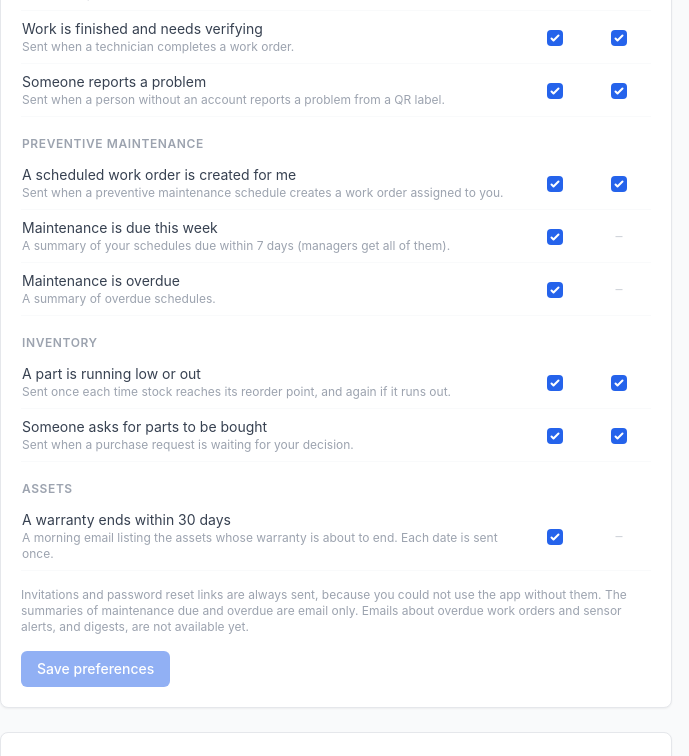
it: NotificationsPage › saves a changed email choice, and only then
(page scrolled)
Expected: the button "Save preferences" is disabled, 21,651 -> 170,687
Click the checkbox labelled "A part is running low or out" at {"x": 555, "y": 383}, box 547,375 -> 563,391
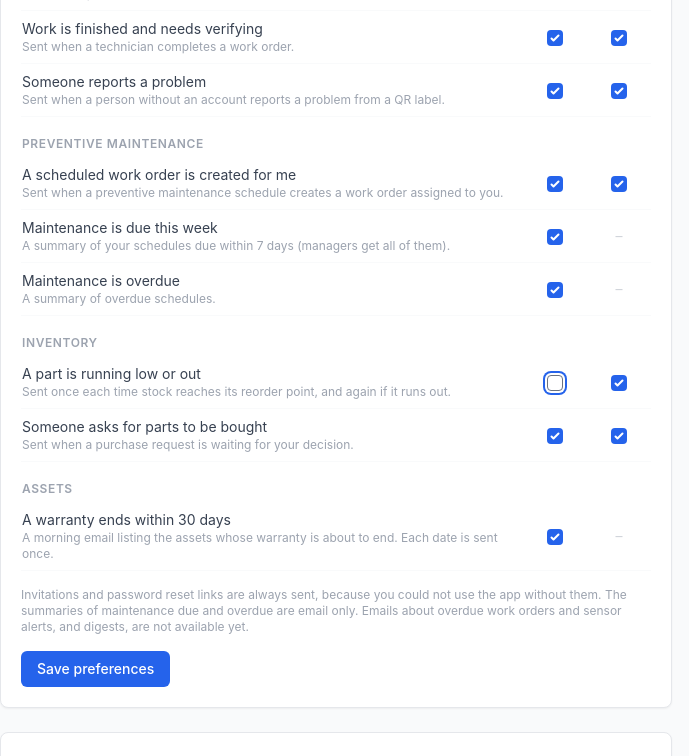
Expected: the button "Save preferences" is enabled
Click the button "Save preferences" at {"x": 96, "y": 669}, box 21,651 -> 170,687
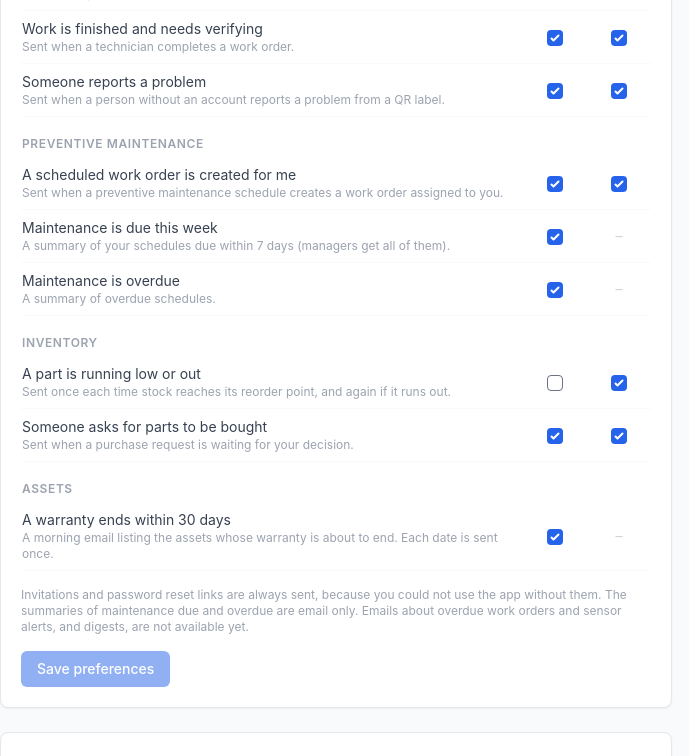
Expected: the button "Save preferences" is disabled, 21,651 -> 170,687
